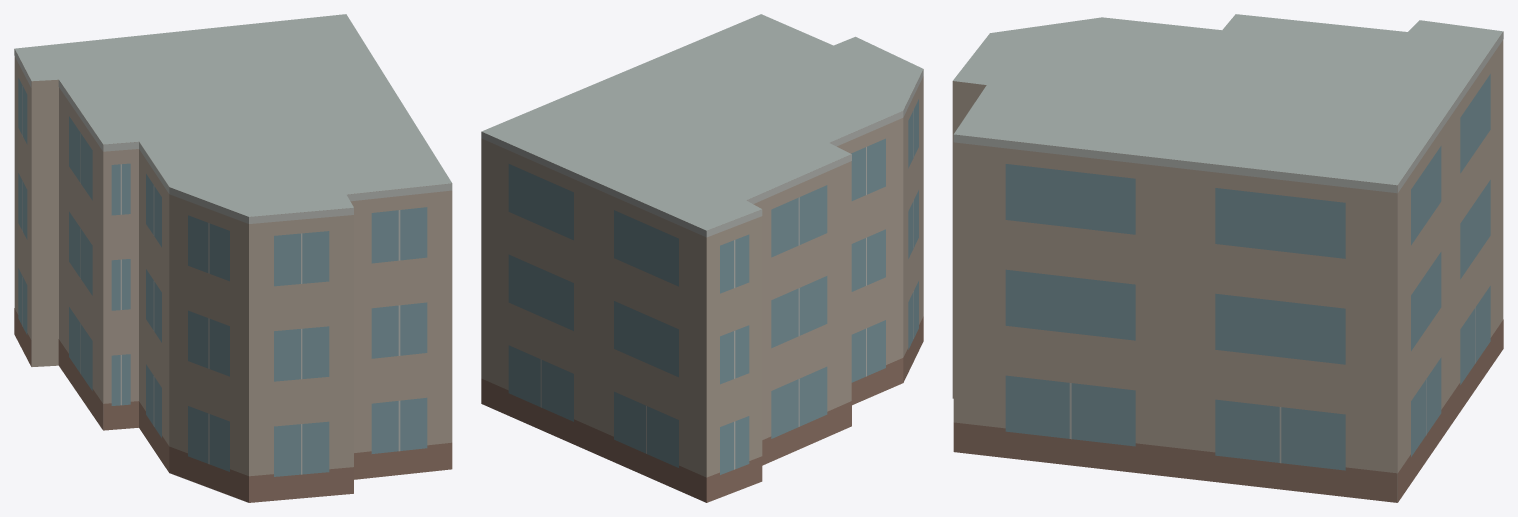
The model's file is survey-upis-32543245.glb.
3 renders of one model, left to right at view 1: azimuth 30°, elevation 25°; view 2: azimuth 150°, elevation 25°; view 3: azimuth 270°, elevation 25°, orthographic. The views are drawn at different scales.
Visible parts, largest first — view 1: survey-upis-32543245.tmp; view 2: survey-upis-32543245.tmp; view 3: survey-upis-32543245.tmp.
Part boxes in pixels (left/top/right/bottom): survey-upis-32543245.tmp: left=14, top=14, right=452, bottom=502; survey-upis-32543245.tmp: left=481, top=14, right=923, bottom=502; survey-upis-32543245.tmp: left=952, top=14, right=1503, bottom=502.
Bounding box in the file's own units: 11.23 × 9.7 × 15.26.
